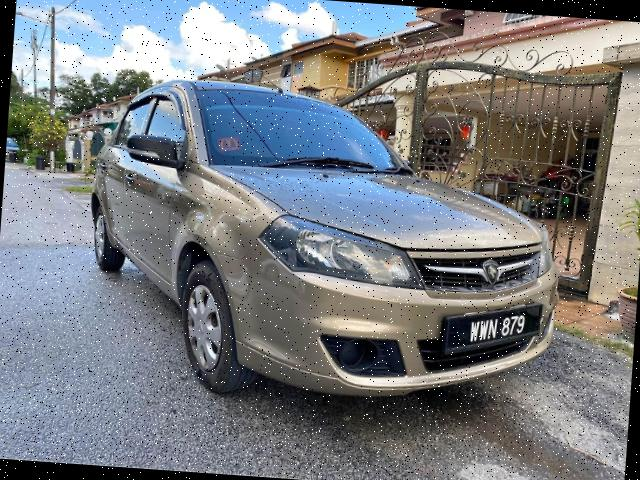License_Plate: (456, 304, 538, 350)
car: (74, 76, 579, 421)
